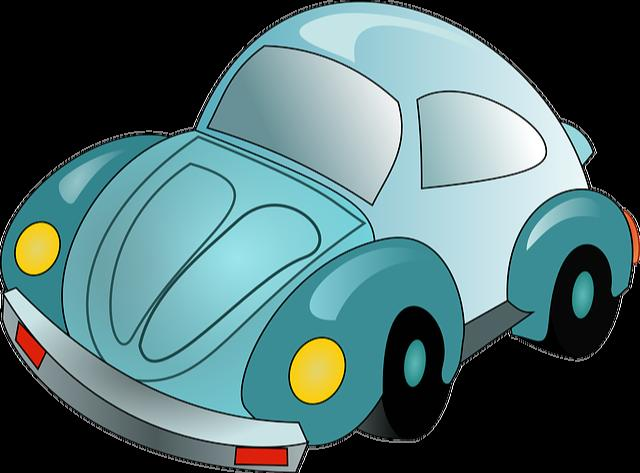Non_Gorille: (20, 10, 624, 448)
